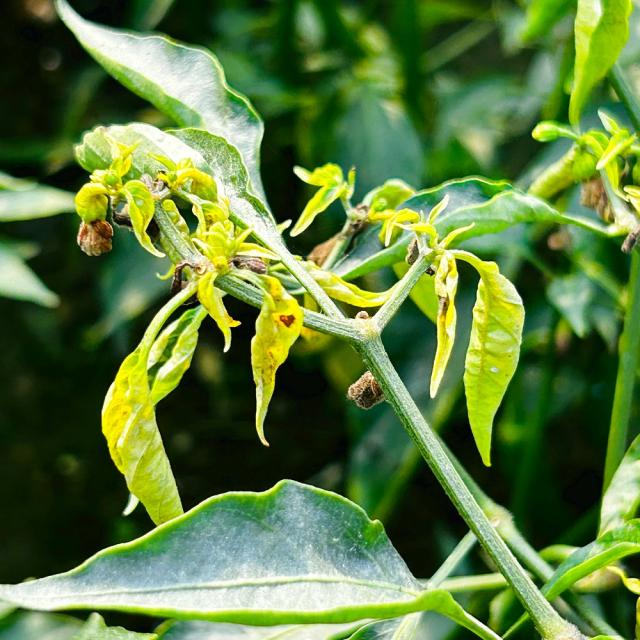Chilli_Leaf_Curl: (4, 1, 637, 638), (72, 120, 310, 526), (1, 478, 432, 638), (52, 0, 274, 223), (376, 193, 526, 467), (99, 275, 208, 526), (461, 257, 525, 467), (249, 276, 304, 448), (565, 0, 633, 131)
